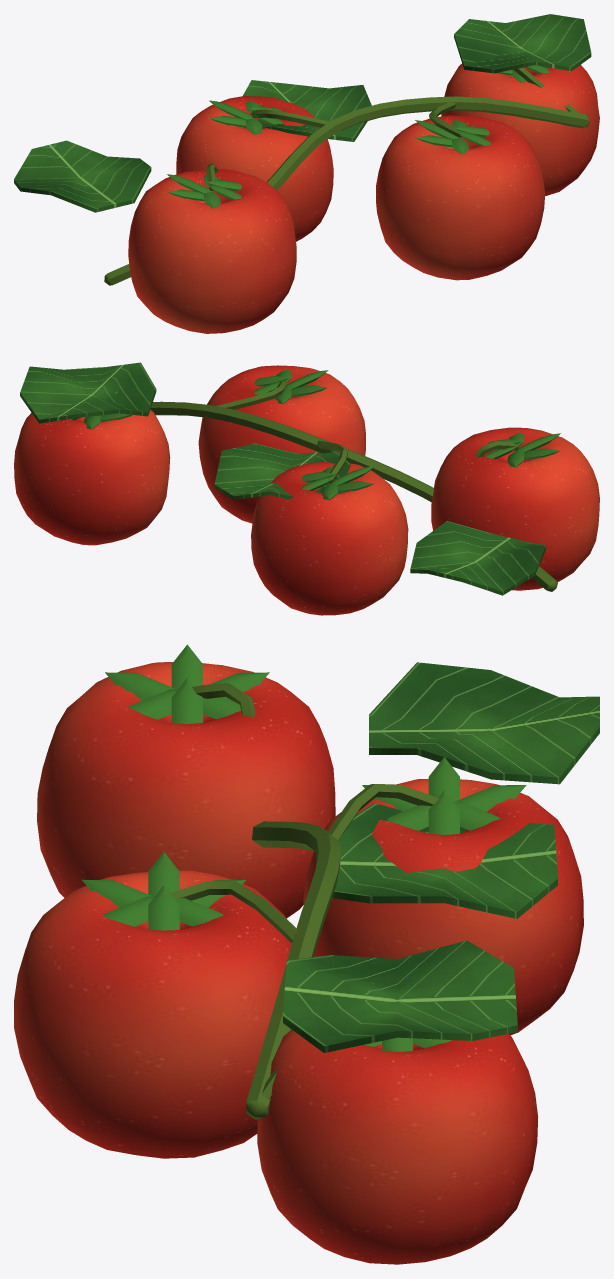
Rendered from veg_tomatoes_on_vine.glb.
The picture shows the model from 3 angles, top to bottom: view 1: azimuth 30°, elevation 25°; view 2: azimuth 150°, elevation 25°; view 3: azimuth 270°, elevation 25°; orthographic projection. The views are drawn at different scales.
Parts seen in each view (by area): view 1: veg_tomatoes_on_vine; view 2: veg_tomatoes_on_vine; view 3: veg_tomatoes_on_vine.
Part boxes in pixels (x1,y1,x2,y2): veg_tomatoes_on_vine: (14, 14, 599, 333); veg_tomatoes_on_vine: (14, 362, 599, 615); veg_tomatoes_on_vine: (14, 644, 599, 1264).
Size of the model in its own units: 0.2358 by 0.0621 by 0.1254.
Materials: 4 (2 with a texture image).
